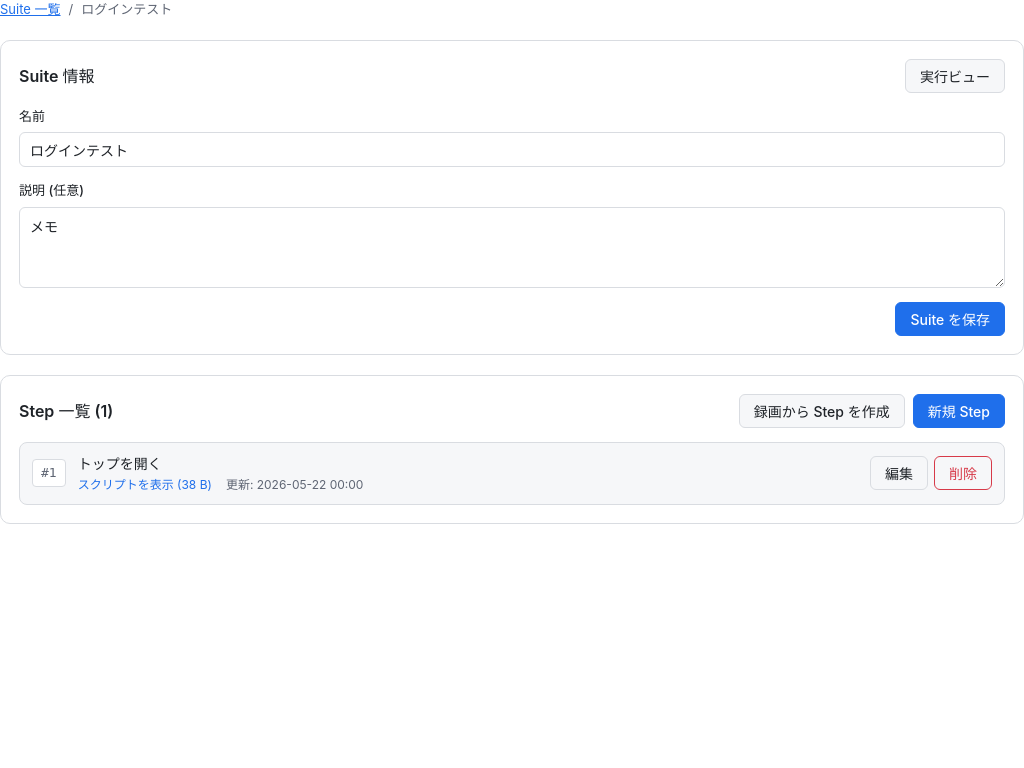
Test: SuiteEditPage › CodegenDialog 連携 › 「録画から Step を作成」ボタンで CodegenDialog が開く
Expected: the text "トップを開く" is shown, [78, 454, 162, 472]
Click the button "録画から Step を作成": x=822, y=410 [739, 394, 905, 428]
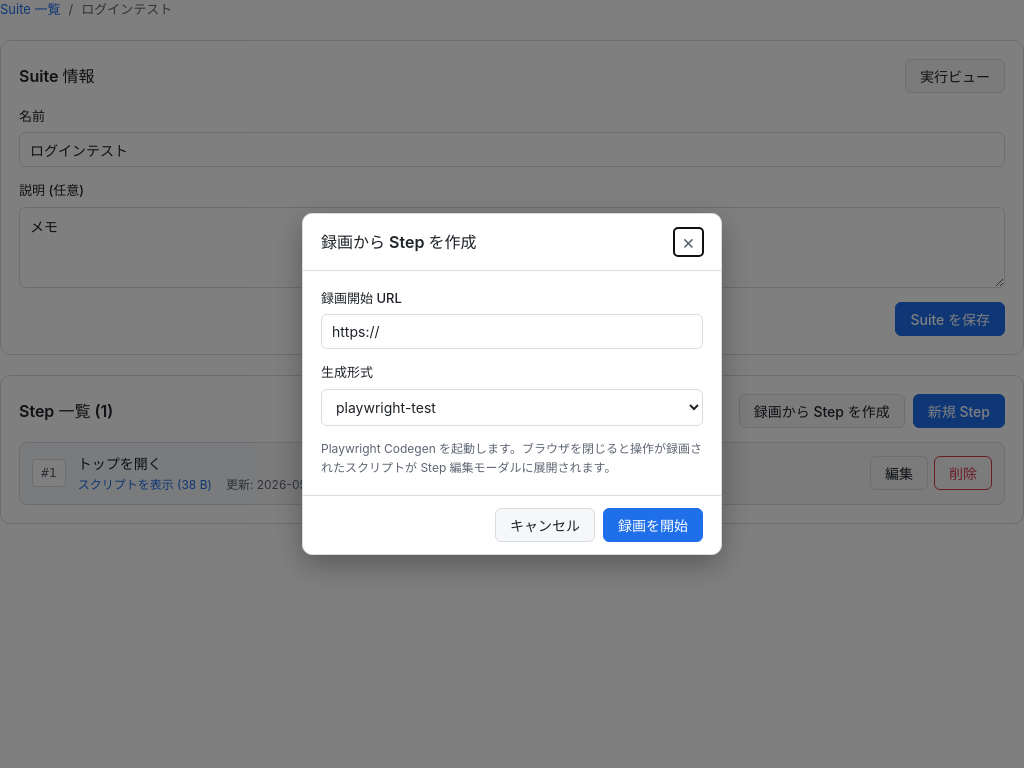
Now the field labelled "録画開始 URL" is shown, box [321, 314, 703, 349]
Now the dropdown labelled "生成形式" is shown, box [321, 389, 703, 426]
